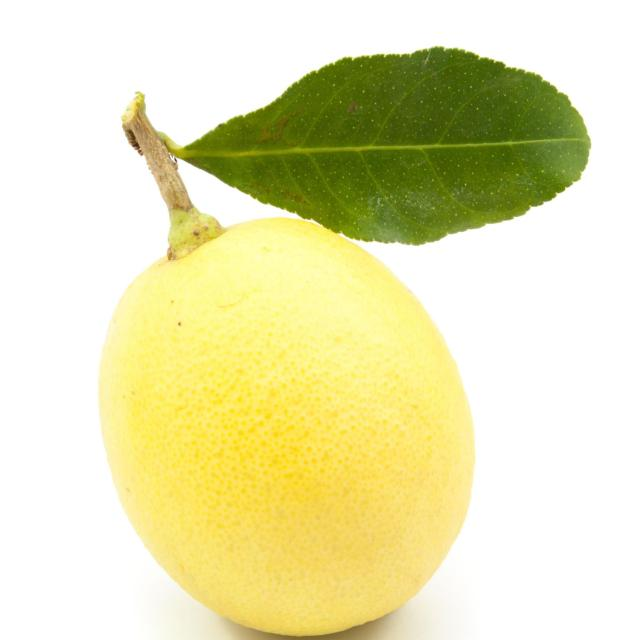lemon: (84, 40, 602, 640)
